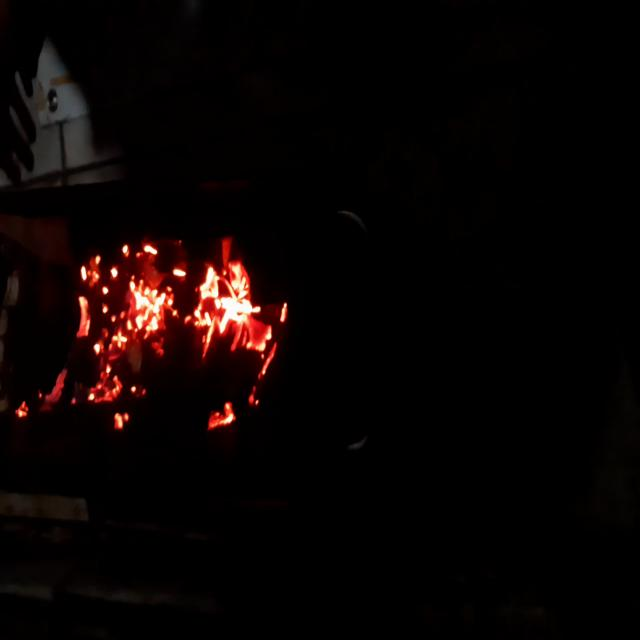Fire: (27, 215, 288, 450)
